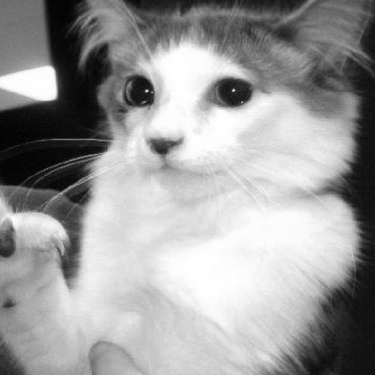cat: (3, 1, 369, 371)
